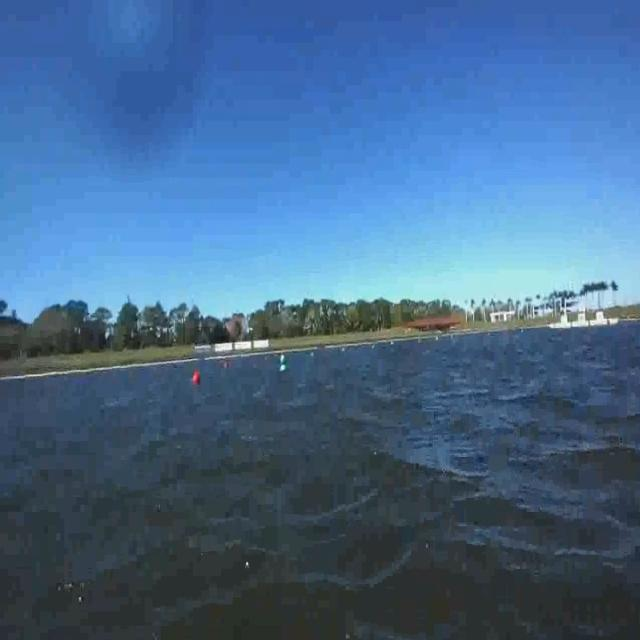green-buoy: (279, 360, 289, 378)
red-buoy: (192, 370, 200, 387)
